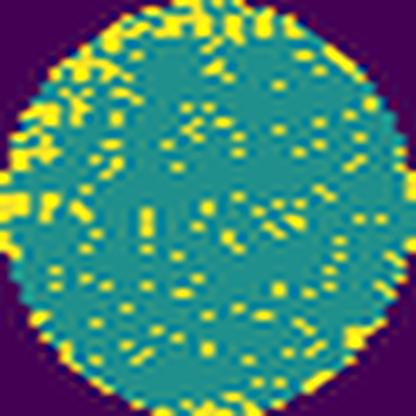Edge-Loc: (100, 0, 215, 53), (42, 50, 134, 84), (0, 136, 61, 179), (20, 102, 67, 132), (0, 189, 35, 227)
